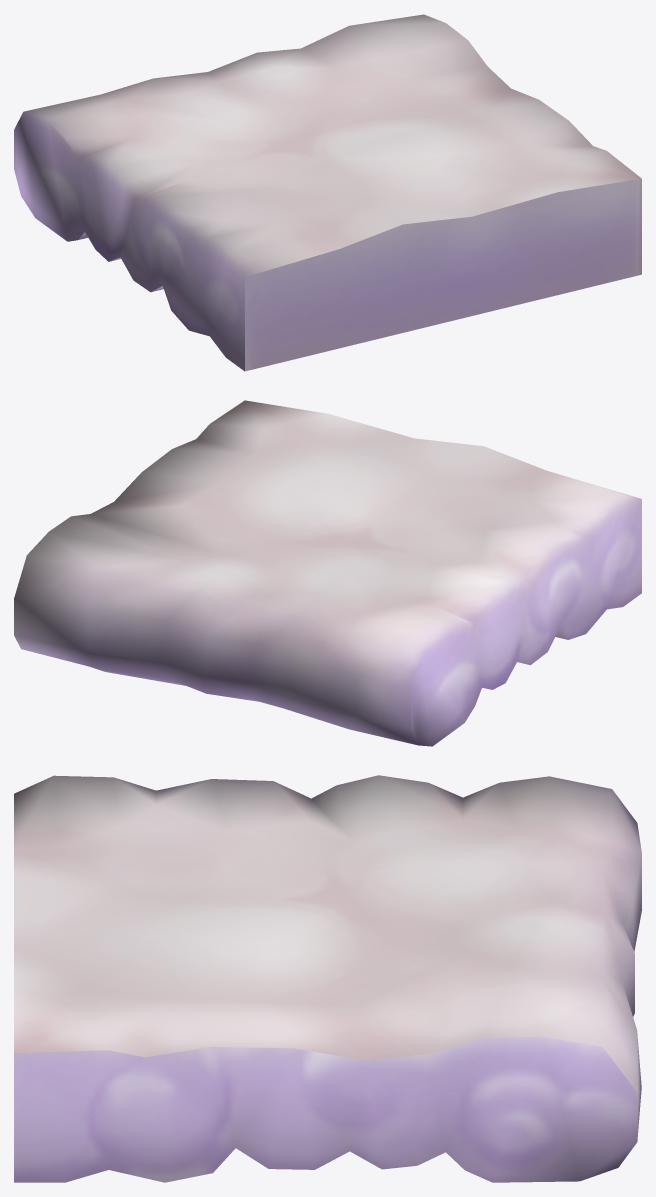
File: scenes_common_cloudroad01.FBX
3 renders of one model, top to bottom at view 1: azimuth 30°, elevation 25°; view 2: azimuth 150°, elevation 25°; view 3: azimuth 270°, elevation 25°, orthographic. The views are drawn at different scales.
Visible parts, largest first — view 1: scenes_common_cloudroad01; view 2: scenes_common_cloudroad01; view 3: scenes_common_cloudroad01.
Part boxes in pixels (x1,y1,x2,y2): scenes_common_cloudroad01: (14, 14, 641, 371); scenes_common_cloudroad01: (14, 400, 641, 746); scenes_common_cloudroad01: (14, 775, 641, 1182).
Size of the model in its own units: 400 by 105 by 406.
